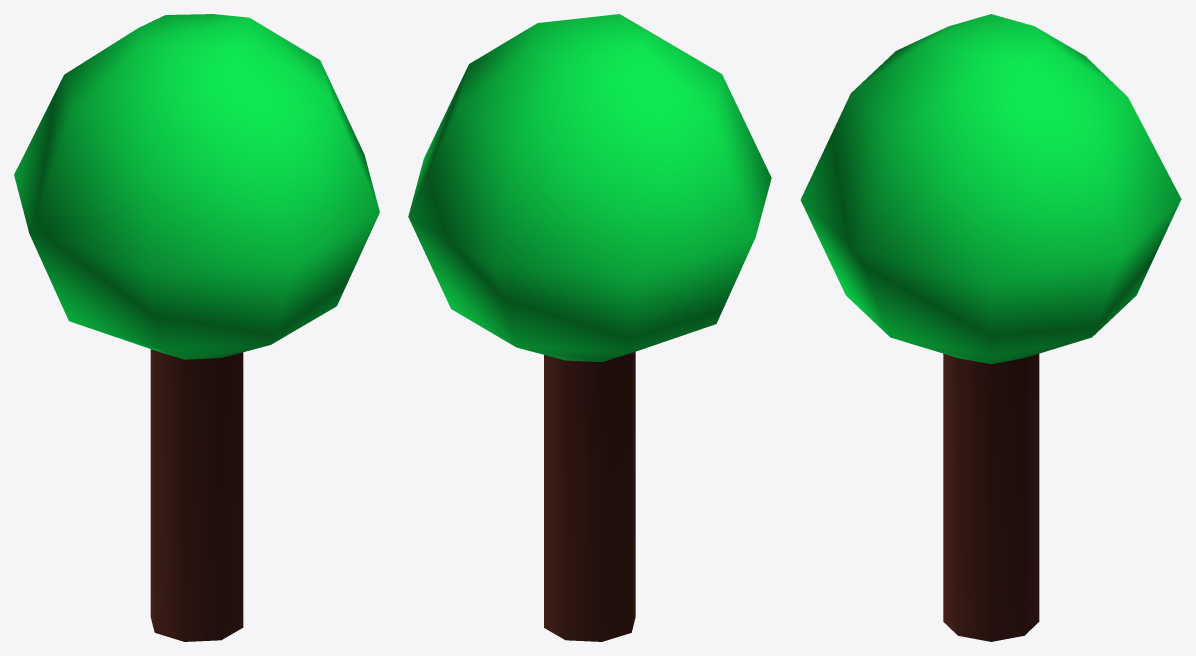
The model's file is tree.glb.
3 views of the same model, side by side, from view 1: azimuth 30°, elevation 25°; view 2: azimuth 150°, elevation 25°; view 3: azimuth 270°, elevation 25° (orthographic).
Parts seen in each view (by area): view 1: Cube; view 2: Cube; view 3: Cube.
Boxes of the visible parts, <box> form: Cube: <box>14,14,379,641</box>; Cube: <box>408,14,771,641</box>; Cube: <box>800,14,1181,641</box>.
Size of the model in its own units: 11.43 by 19.3 by 11.44.
